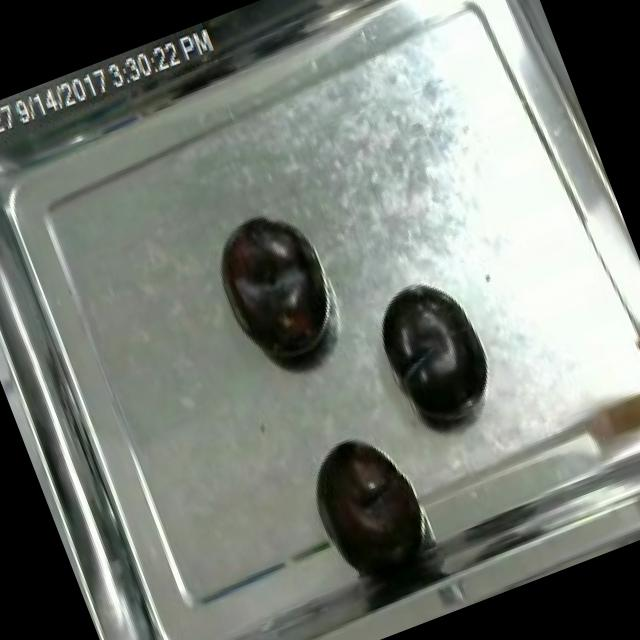Fruit: (201, 198, 346, 376), (363, 268, 506, 438), (294, 419, 432, 575)
